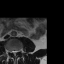CCS_normal: (13, 48, 15, 58)
LFS_stenosis: (17, 48, 19, 53)
LLS_normal: (15, 48, 17, 55)
RFS_stenosis: (9, 48, 11, 54)
RLS_normal: (11, 49, 13, 54)
